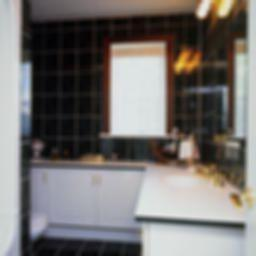Lavamanos: (154, 153, 230, 196)
Sanitario: (30, 210, 49, 254)
